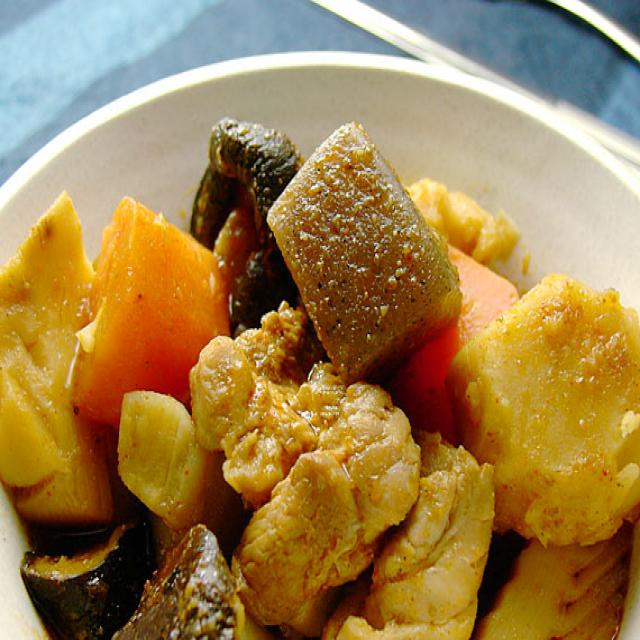鸡肉料理 含炸鸡: (0, 46, 640, 640)
